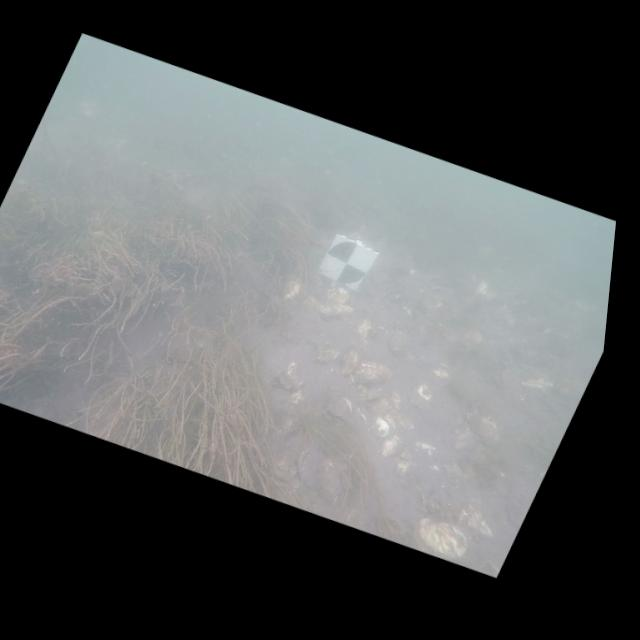Oyster-Closed: (419, 518, 467, 558), (352, 361, 392, 386), (278, 363, 304, 391), (326, 391, 351, 420), (341, 346, 359, 375), (317, 349, 340, 363)
Oyster-Indeterminate: (409, 384, 432, 410), (288, 389, 310, 414), (357, 318, 382, 338), (326, 287, 349, 305), (356, 384, 380, 401), (283, 281, 302, 301), (374, 416, 390, 437), (415, 442, 437, 456), (381, 439, 397, 457), (373, 397, 388, 415), (395, 458, 409, 475), (397, 416, 413, 429), (390, 392, 401, 410), (433, 368, 449, 379)
Oyster-Open: (318, 302, 353, 323), (294, 447, 310, 485)
